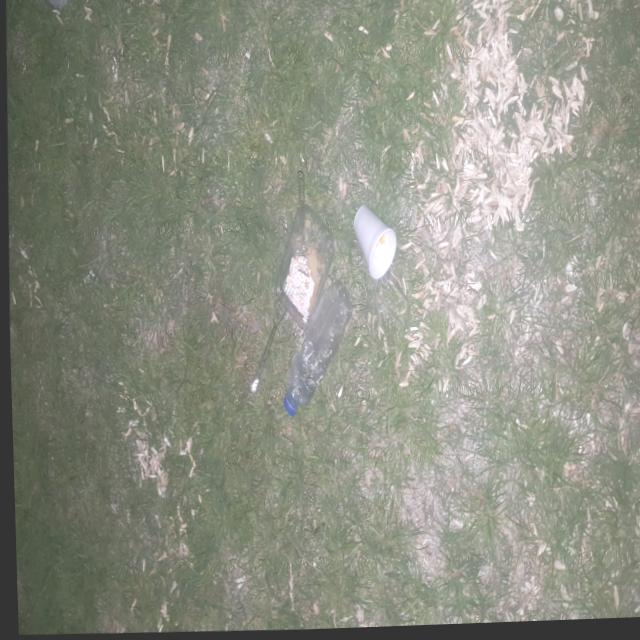Paper: (347, 200, 399, 287)
Plastic: (240, 214, 359, 425)
